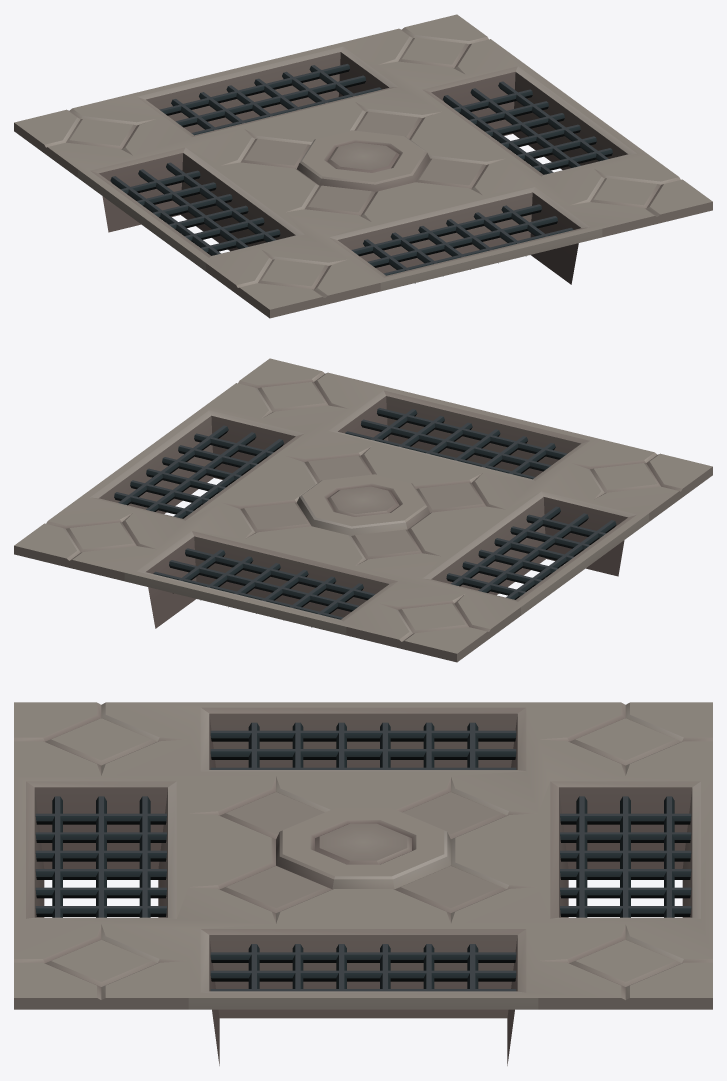
Rendered from floor_tile_extralarge_grates_open.glb.
3 renders of one model, top to bottom at view 1: azimuth 30°, elevation 25°; view 2: azimuth 150°, elevation 25°; view 3: azimuth 270°, elevation 25°, orthographic. The views are drawn at different scales.
Parts seen in each view (by area): view 1: floor_tile_extralarge_grates_open; view 2: floor_tile_extralarge_grates_open; view 3: floor_tile_extralarge_grates_open.
Part boxes in pixels (x1=…): floor_tile_extralarge_grates_open: x1=14, y1=14, x2=712, y2=318; floor_tile_extralarge_grates_open: x1=14, y1=358, x2=712, y2=662; floor_tile_extralarge_grates_open: x1=14, y1=702, x2=712, y2=1065.
Size of the model in its own units: 8 by 1.13 by 8.
1 material, 1 textured.
